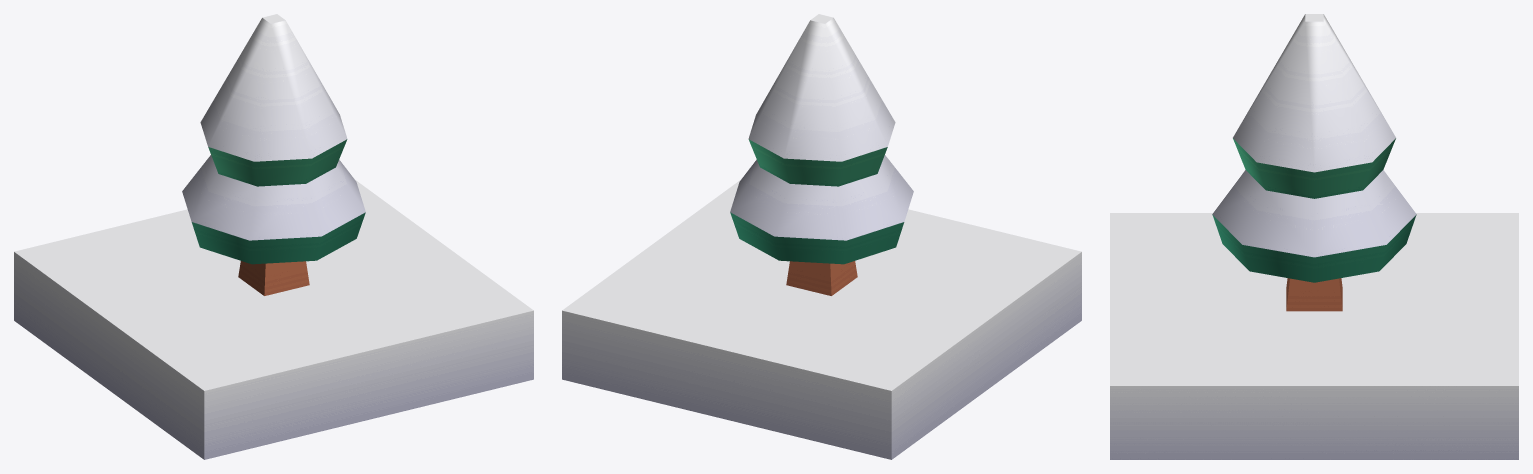
File: tower-defense-kit--snow-tile-tree.glb
The picture shows the model from 3 angles, left to right: view 1: azimuth 30°, elevation 25°; view 2: azimuth 150°, elevation 25°; view 3: azimuth 270°, elevation 25°; orthographic projection. The views are drawn at different scales.
Visible parts, largest first — view 1: snow-tile-tree; view 2: snow-tile-tree; view 3: snow-tile-tree.
Part boxes in pixels (x1,y1,x2,y2): snow-tile-tree: (14,14,533,459); snow-tile-tree: (562,14,1081,459); snow-tile-tree: (1110,14,1518,459).
Bounding box in the file's own units: 1 × 0.96 × 1.
Materials: 1 (1 with a texture image).
